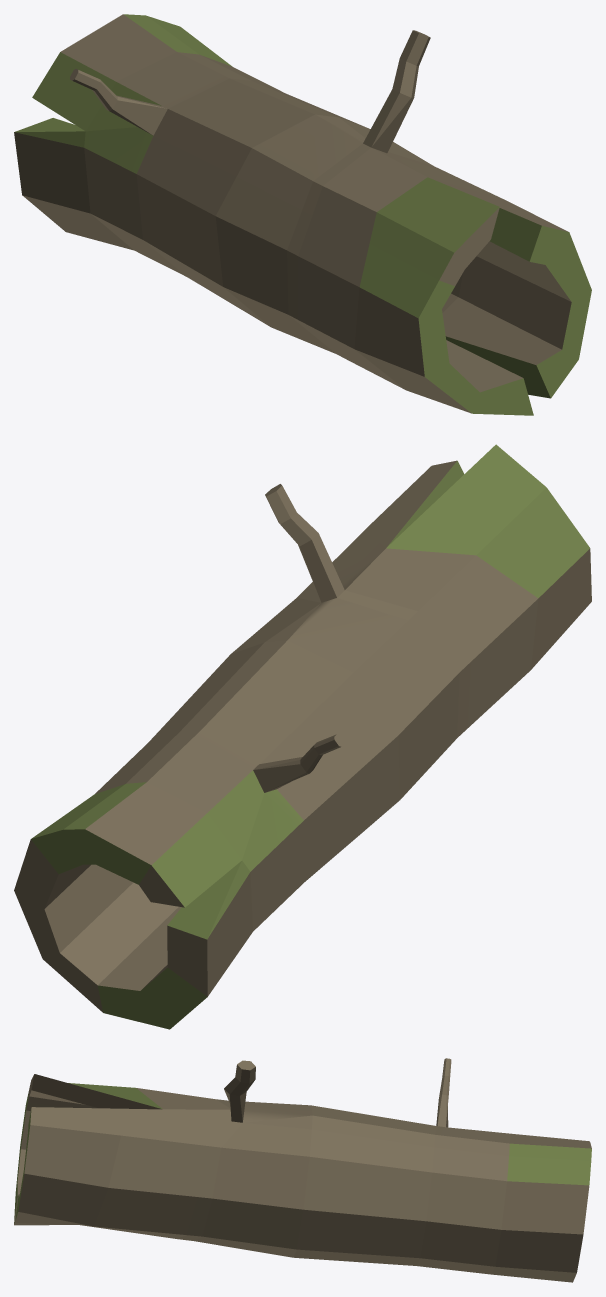
The model's file is Log.fbx.
3 views of the same model, one above another, from view 1: azimuth 30°, elevation 25°; view 2: azimuth 150°, elevation 25°; view 3: azimuth 270°, elevation 25° (orthographic). The views are drawn at different scales.
Parts seen in each view (by area): view 1: Log_01; view 2: Log_01; view 3: Log_01.
Part boxes in pixels (box(x1,y1,x2,y2)): Log_01: box(14, 14, 591, 415); Log_01: box(14, 444, 591, 1029); Log_01: box(14, 1058, 591, 1282).
Size of the model in its own units: 0.6658 by 0.9268 by 2.01.
